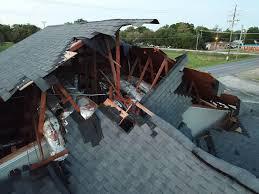sagging_roof: (23, 31, 220, 132)
